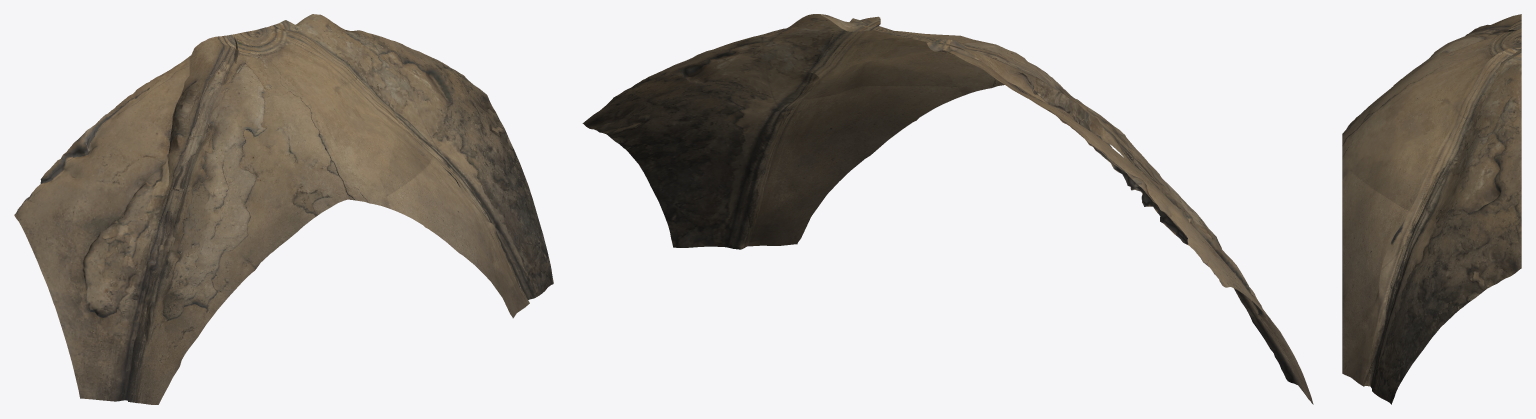
Rendered from sm_Chapel_01_11.fbx.
3 renders of one model, left to right at view 1: azimuth 30°, elevation 25°; view 2: azimuth 150°, elevation 25°; view 3: azimuth 270°, elevation 25°, orthographic. The views are drawn at different scales.
Visible parts, largest first — view 1: sm_Chapel_01_11_LOD0; view 2: sm_Chapel_01_11_LOD0; view 3: sm_Chapel_01_11_LOD0.
Boxes of the visible parts, left/top/right/bottom form: sm_Chapel_01_11_LOD0: left=14, top=14, right=553, bottom=404; sm_Chapel_01_11_LOD0: left=582, top=14, right=1313, bottom=404; sm_Chapel_01_11_LOD0: left=1342, top=14, right=1521, bottom=404.
Bounding box in the file's own units: 203 × 68.47 × 108.
